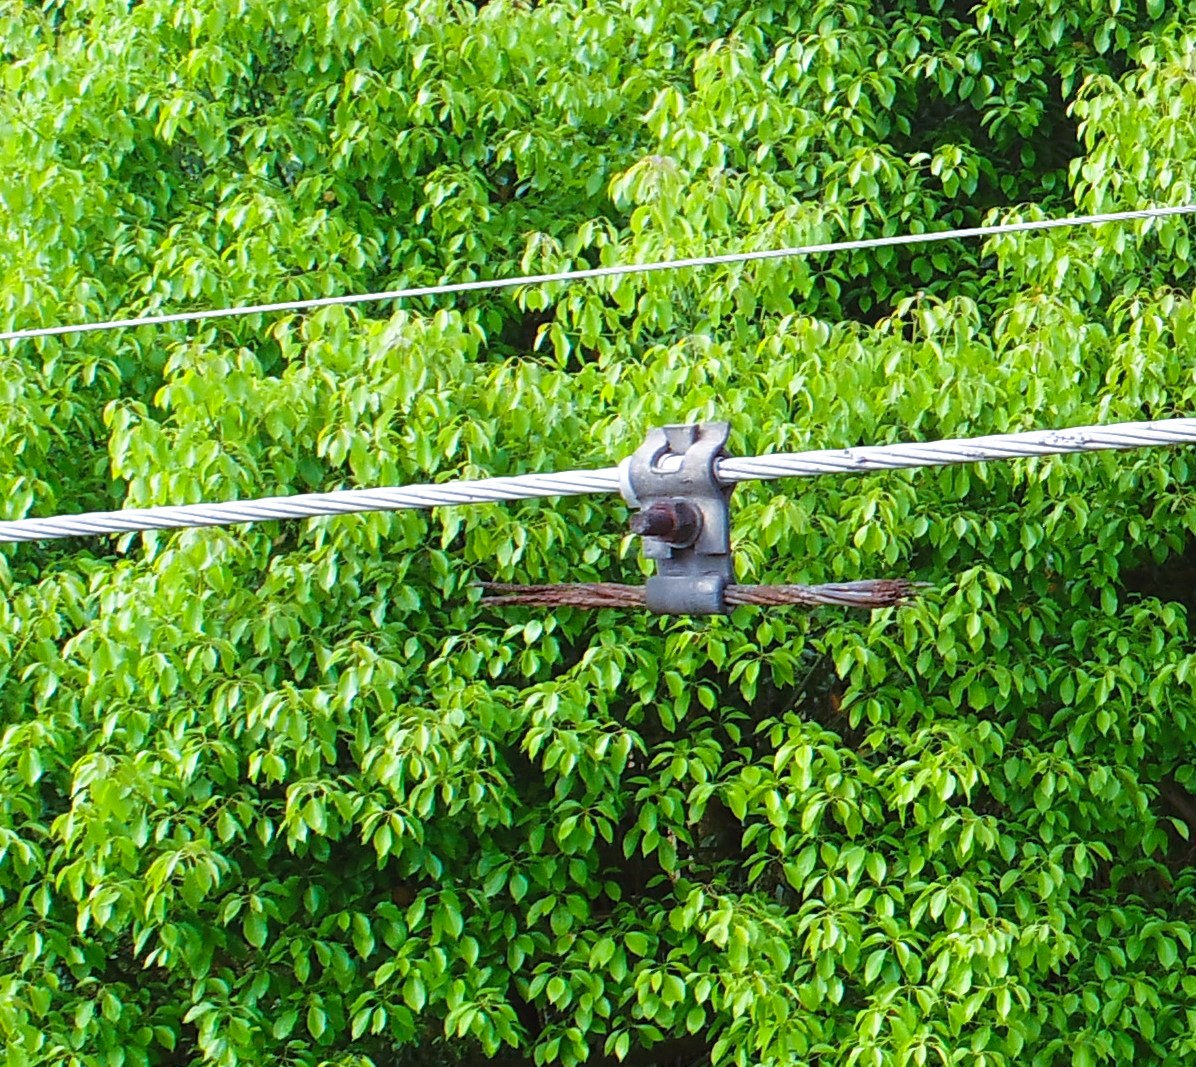Damage of shockproof hammer: (448, 404, 955, 636)
